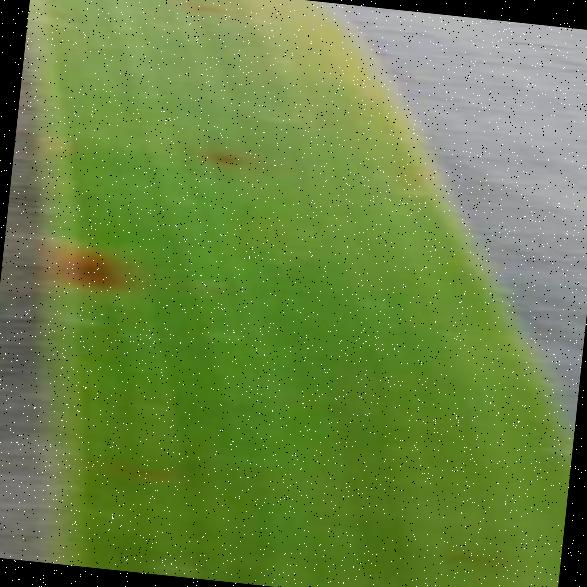Brown_Spot: (42, 231, 146, 306), (197, 138, 248, 170), (183, 0, 230, 17)
